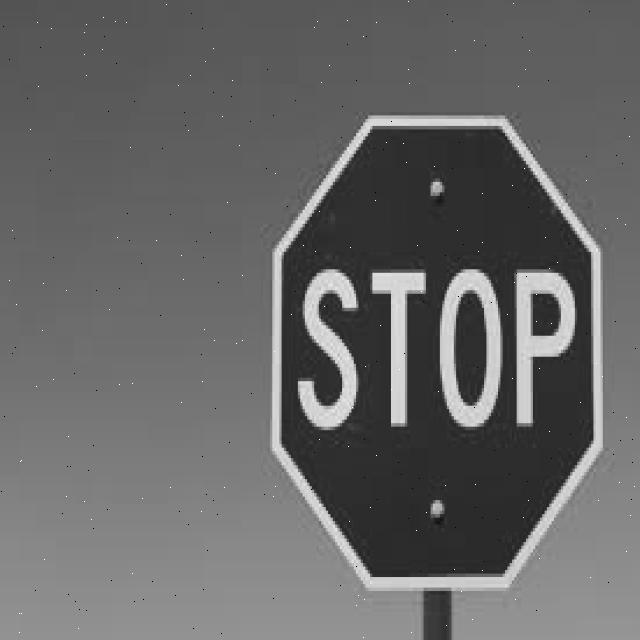Stop-sign: (266, 59, 618, 611)
